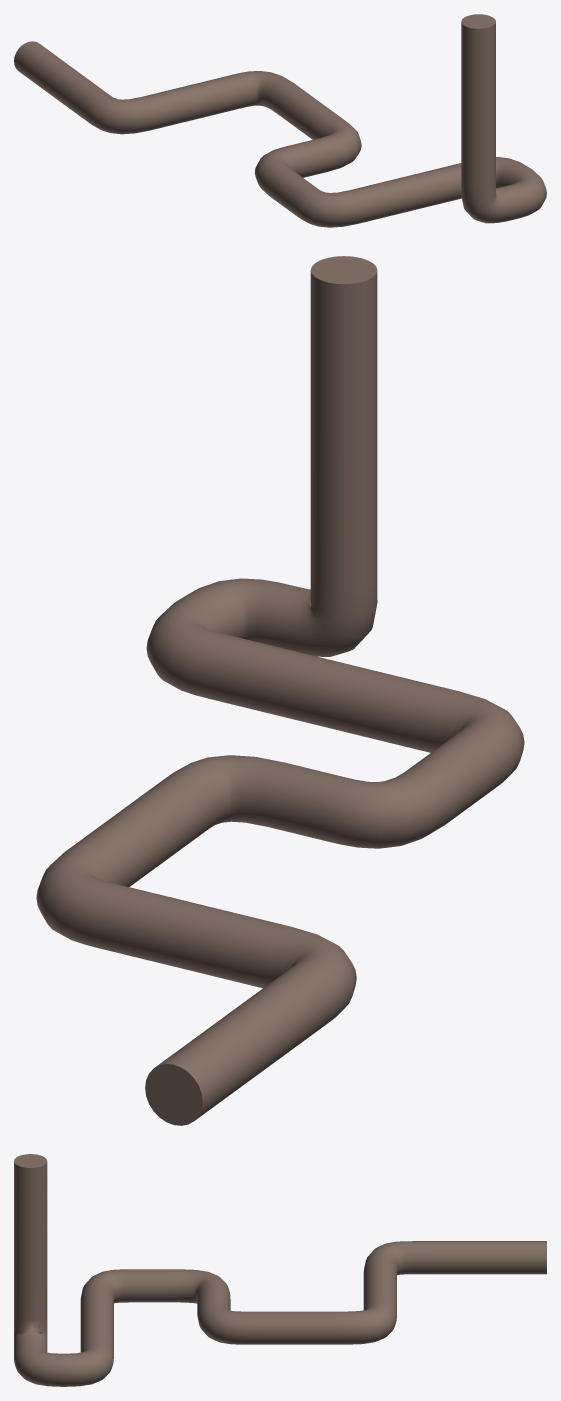
The model's file is CagnoD.FBX.
3 views of the same model, one above another, from view 1: azimuth 30°, elevation 25°; view 2: azimuth 150°, elevation 25°; view 3: azimuth 270°, elevation 25° (orthographic). The views are drawn at different scales.
Parts seen in each view (by area): view 1: Loft004; view 2: Loft004; view 3: Loft004.
Part boxes in pixels (bbox=[...]): Loft004: bbox=[14, 14, 546, 227]; Loft004: bbox=[36, 256, 524, 1125]; Loft004: bbox=[14, 1154, 546, 1386].
Bounding box in the file's own units: 180 × 130 × 320.
